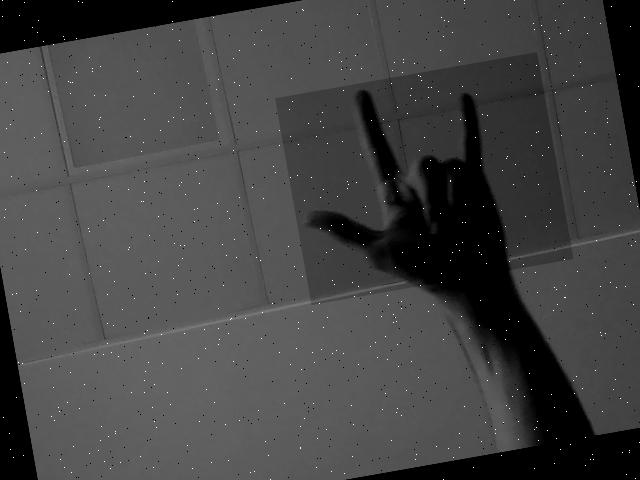I_Love_You: (274, 51, 574, 305)
